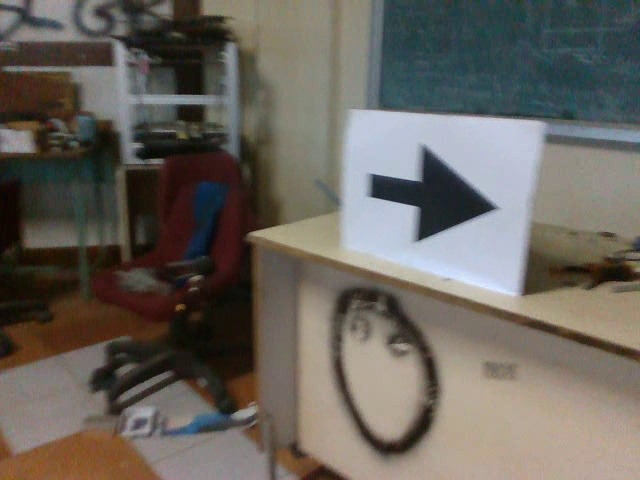Right: (358, 136, 505, 247)
